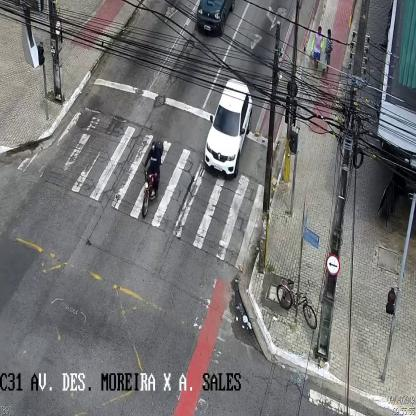bicycle: (275, 274, 318, 332)
car: (202, 76, 251, 179), (195, 1, 235, 34)
motorbike: (142, 141, 163, 221)
person: (324, 28, 334, 78), (312, 26, 322, 72)
